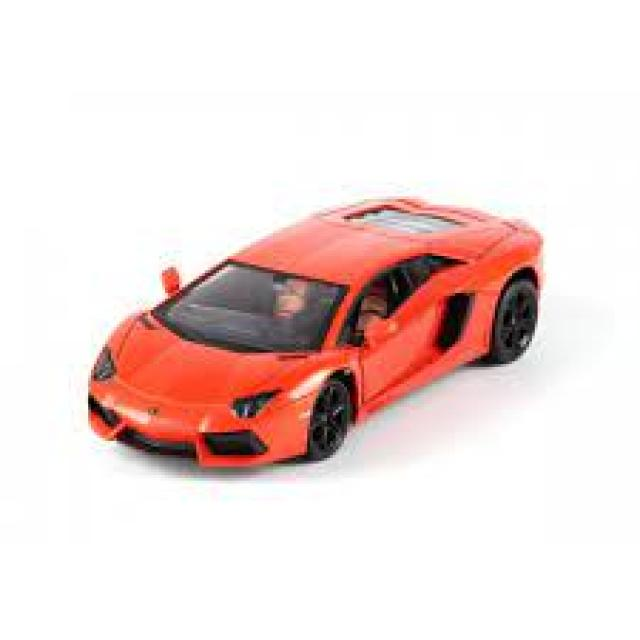Car: (86, 193, 544, 470)
